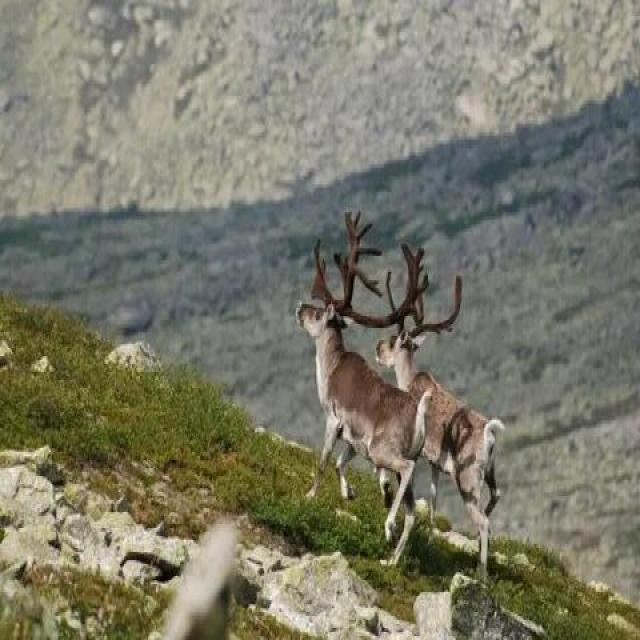deer: (248, 210, 429, 574), (374, 331, 472, 497)
